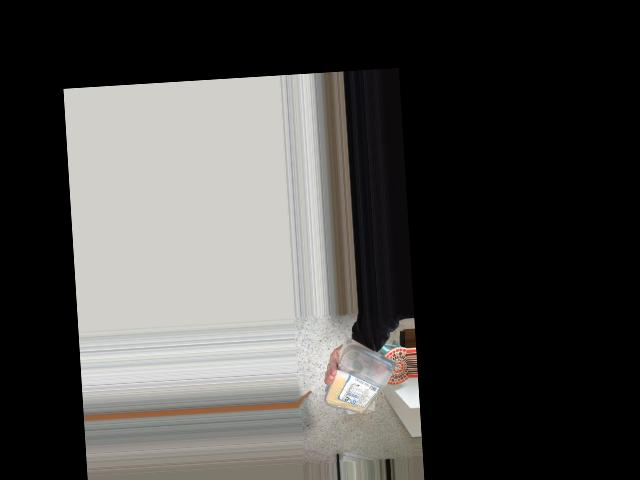cheese: (330, 346, 399, 420)
